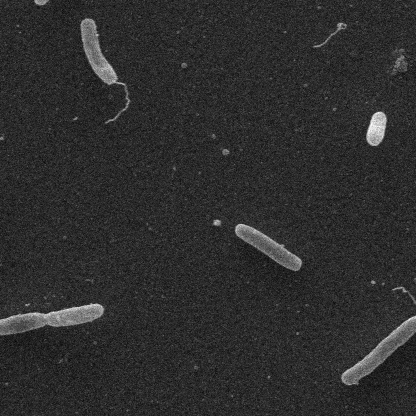cell2surface: (102, 79, 131, 127), (390, 281, 416, 316)
regular: (340, 315, 416, 386), (230, 221, 302, 273), (0, 303, 103, 338), (77, 16, 114, 83), (32, 0, 89, 7)
spheroplast: (365, 110, 389, 148)
